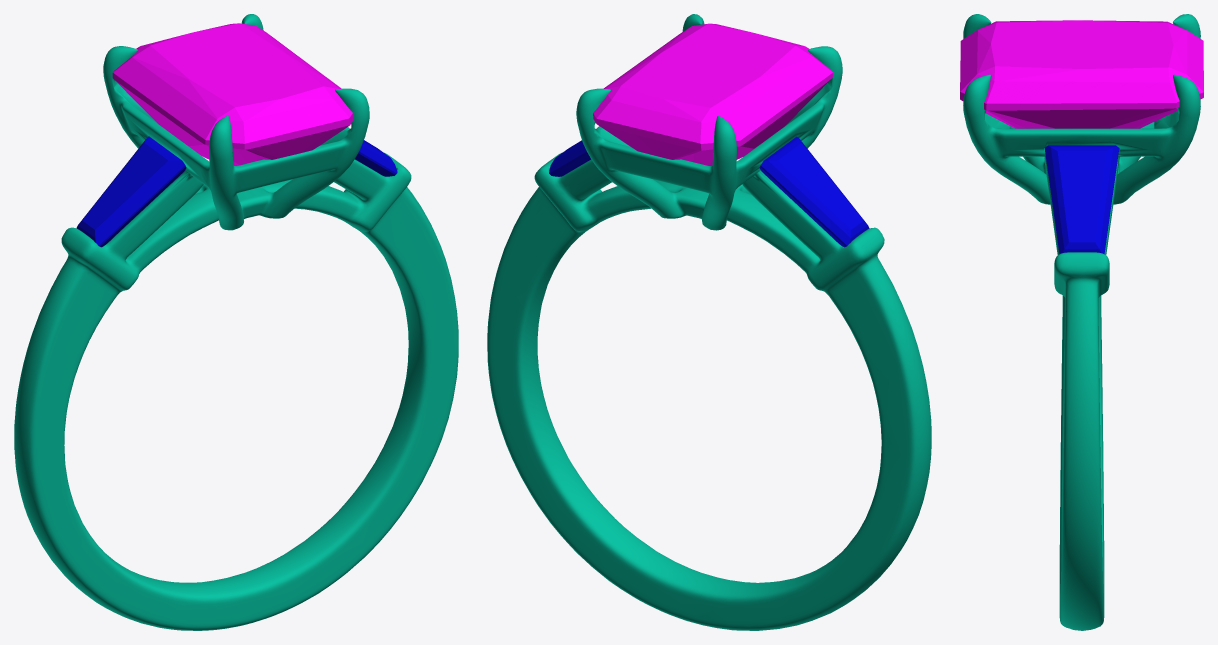
File: BE1D879_RA_200ct_RENDER.glb
3 renders of one model, left to right at view 1: azimuth 30°, elevation 25°; view 2: azimuth 150°, elevation 25°; view 3: azimuth 270°, elevation 25°, orthographic.
Visible parts, largest first — view 1: Metal 01, CS_Diamond_Radiant, Diamond_Baguette_side, Diamond_Baguette_side.001; view 2: Metal 01, CS_Diamond_Radiant, Diamond_Baguette_side, Diamond_Baguette_side.001; view 3: Metal 01, CS_Diamond_Radiant, Diamond_Baguette_side.001.
Boxes of the visible parts, <box> form: Metal 01: <box>14,14,458,630</box>; CS_Diamond_Radiant: <box>112,23,353,165</box>; Diamond_Baguette_side: <box>76,136,186,247</box>; Diamond_Baguette_side.001: <box>355,140,396,176</box>; Metal 01: <box>487,14,931,630</box>; CS_Diamond_Radiant: <box>593,23,833,165</box>; Diamond_Baguette_side: <box>759,136,869,247</box>; Diamond_Baguette_side.001: <box>549,140,590,176</box>; Metal 01: <box>963,14,1200,630</box>; CS_Diamond_Radiant: <box>960,20,1203,128</box>; Diamond_Baguette_side.001: <box>1044,145,1119,254</box>.
Size of the model in its own units: 20.23 by 24.68 by 9.7.
